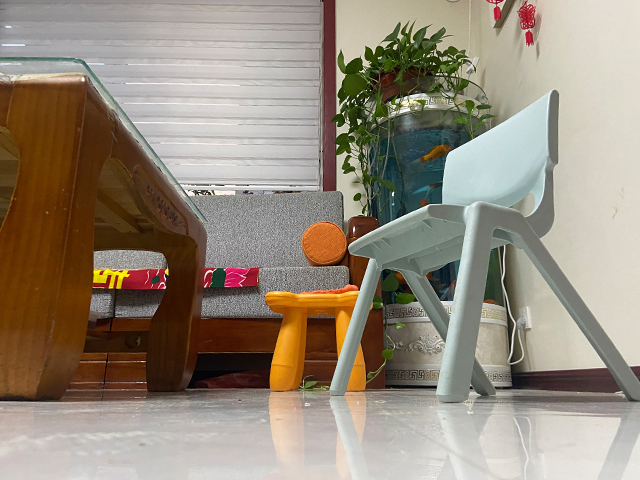sofa: (88, 190, 387, 388)
stool: (325, 89, 640, 405), (264, 290, 369, 393)
table: (1, 55, 208, 402)
